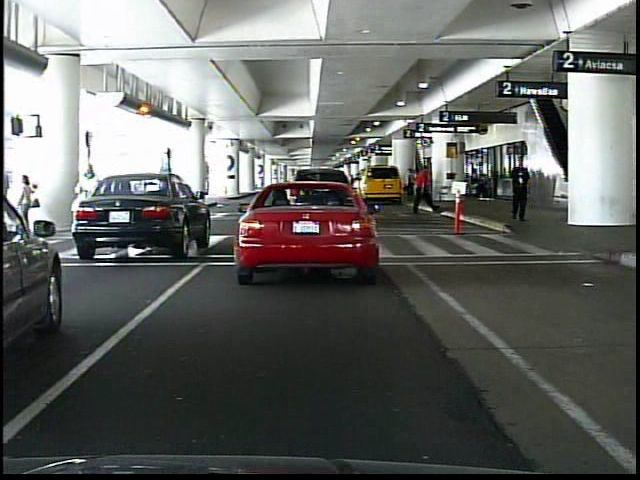person: (74, 163, 106, 245), (510, 154, 532, 225), (17, 172, 37, 242), (413, 164, 434, 218), (405, 166, 418, 203)
